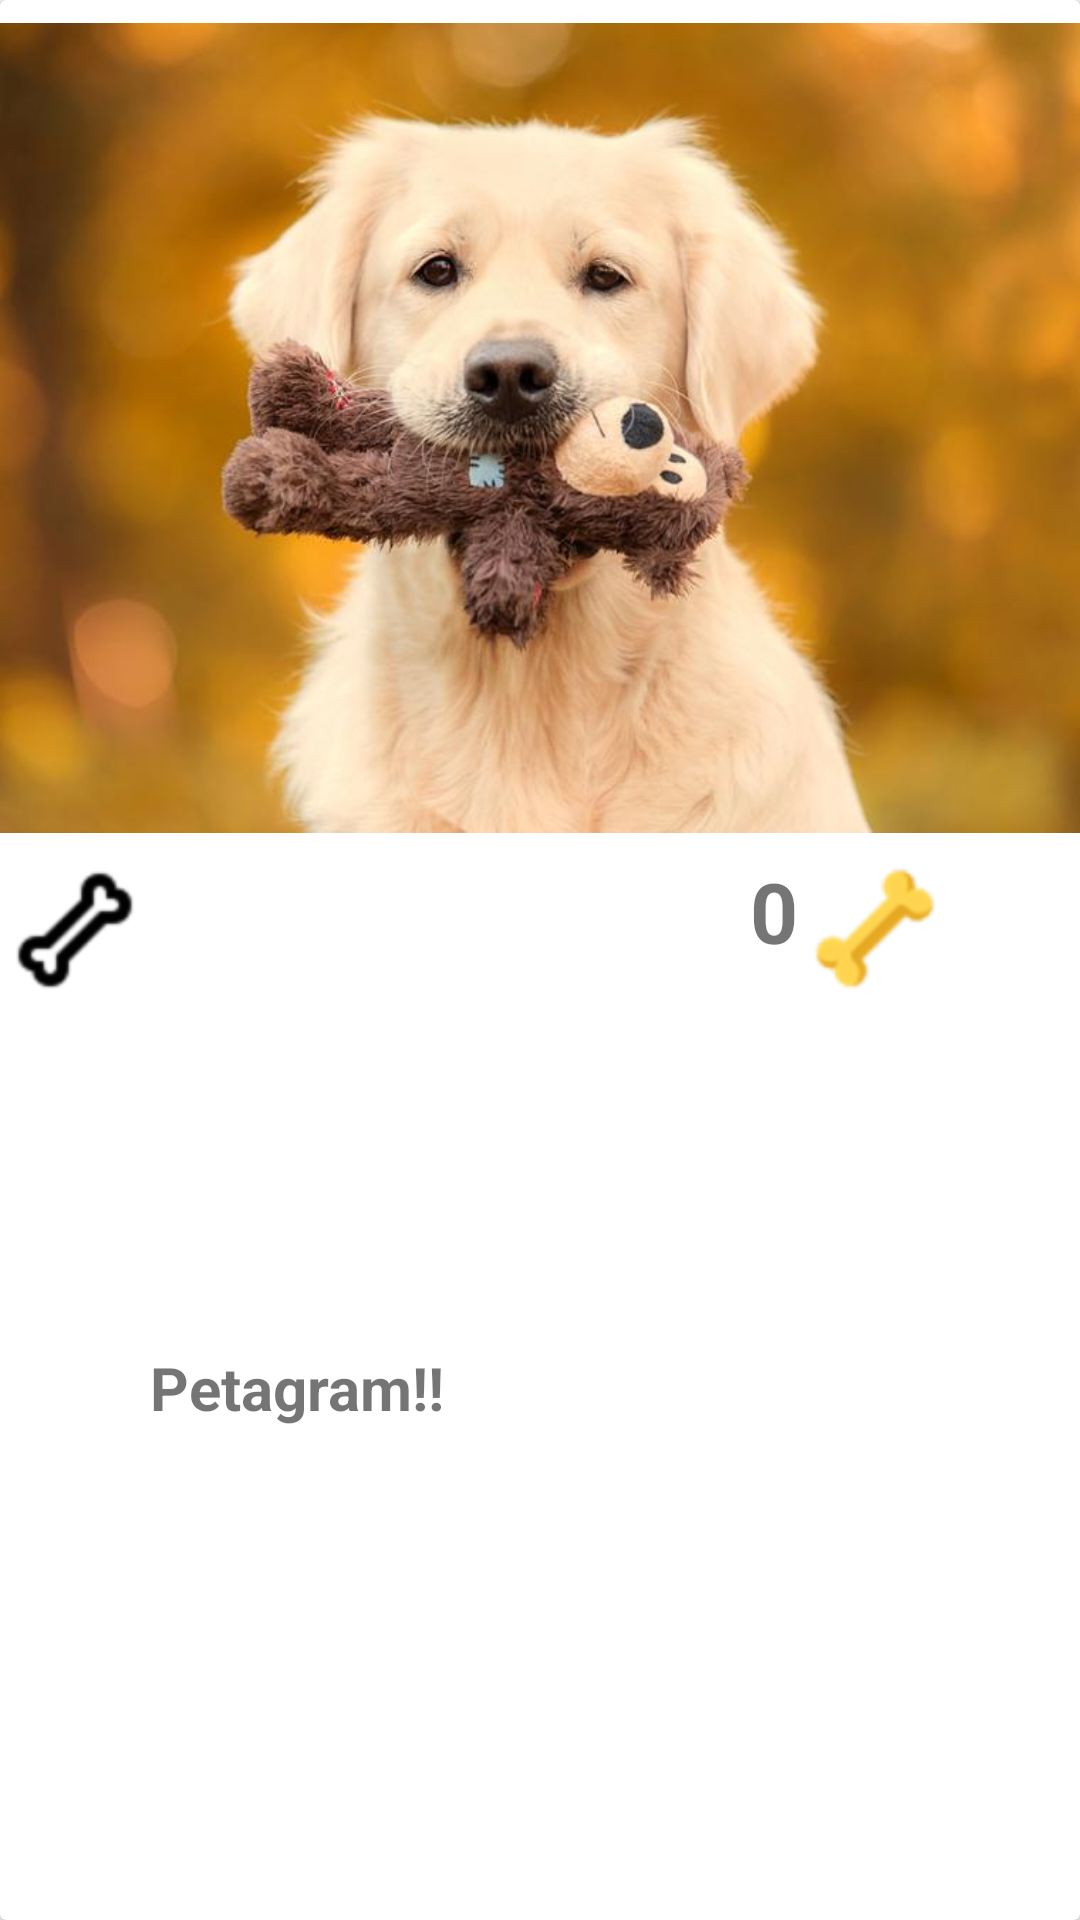

Screen size 1080×1920. Icon name, then its center in pixels as (x=x, y=y):
iconhuesofav: (x=875, y=928)
iconshueso: (x=75, y=930)
